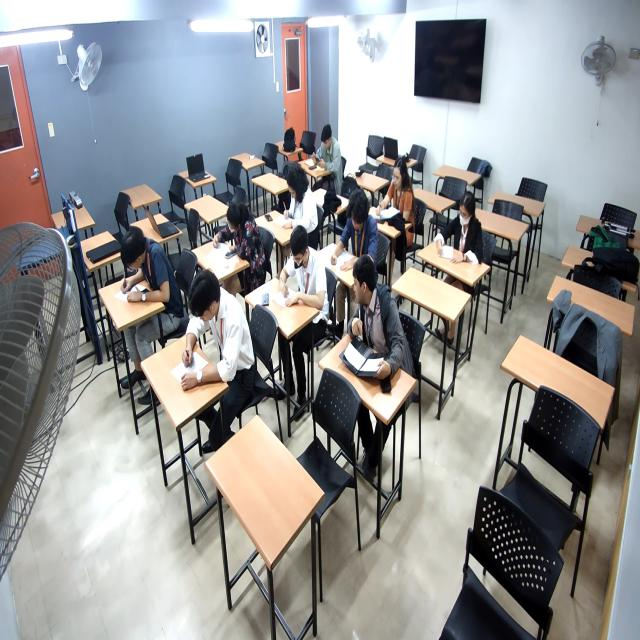read: (176, 266, 255, 401), (267, 232, 327, 325), (429, 201, 489, 275), (326, 196, 376, 281), (113, 235, 166, 315), (204, 203, 256, 269), (275, 171, 313, 242), (375, 169, 417, 225), (310, 128, 340, 180)
